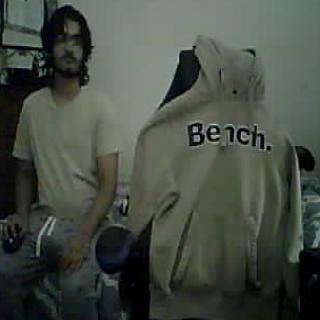Yellow Hoodie: (129, 30, 317, 320)
Yellow T-Shirt: (14, 84, 121, 218)
